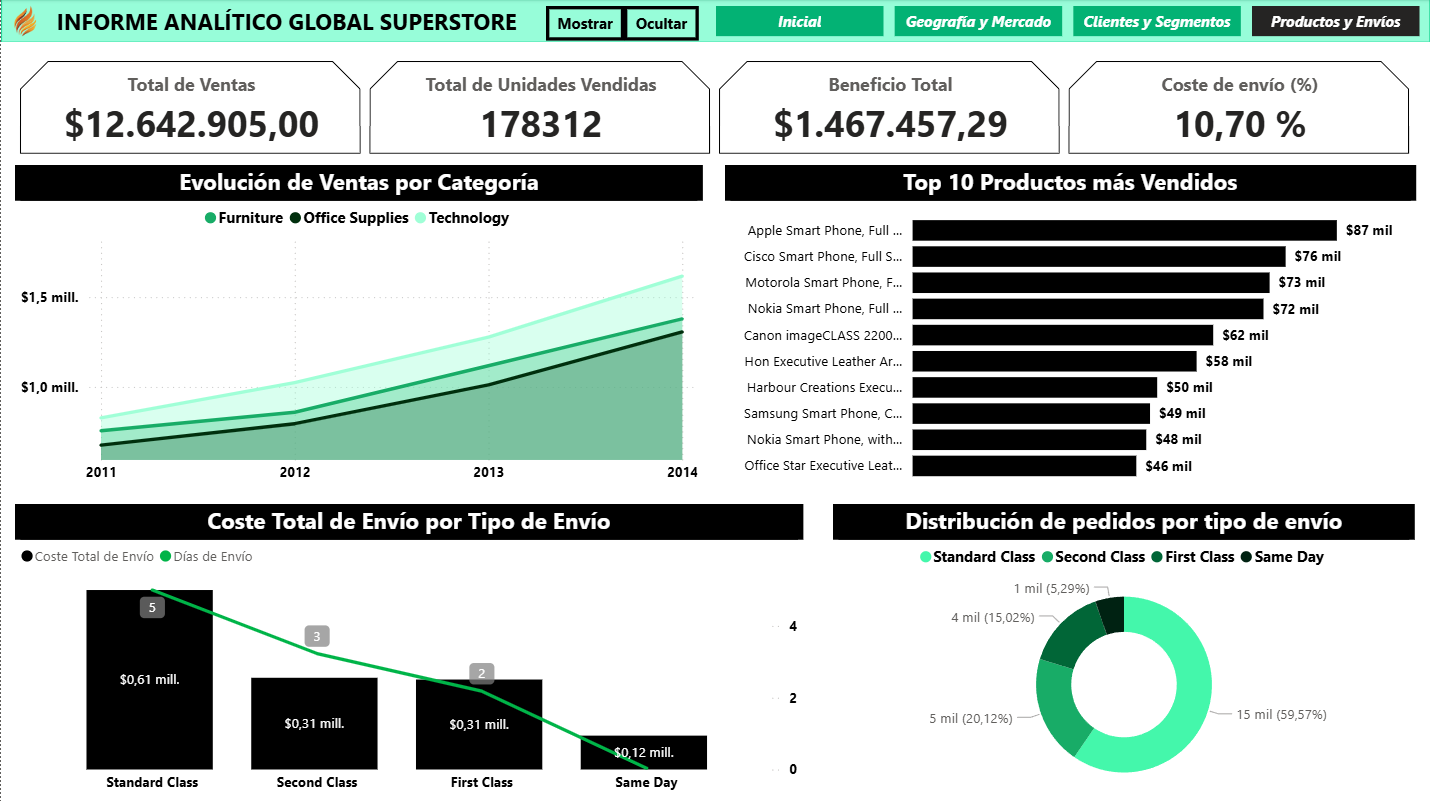

This screenshot's page, from the dashboard's own definition file:
{"tool":"powerbi","page":{"name":"Productos y Envíos","canvas":[1280,720],"ordinal":3},"visuals":[{"type":"group","id":"g1","title":"Grupo 1","box":[0,0,1280,40.2],"z":0},{"type":"shape","box":[0,0,1280,39.2],"z":0,"group":"g1"},{"type":"image","box":[0,0,42.3,40.2],"z":1000,"group":"g1"},{"type":"actionButton","title":"Mostrar","box":[488,6,70,31],"z":1000,"group":"g2"},{"type":"actionButton","box":[0,39.2,100,40.2],"z":1000},{"type":"actionButton","title":"Ocultar","box":[558,6,67,31],"z":2000,"group":"g2"},{"type":"pageNavigator","box":[640,6.2,632.8,27.8],"z":2000,"group":"g1"},{"type":"cardVisual","fields":{"Data":["Metricas.KPI_Total_Ventas","Metricas.KPI_Total_Unidades","Metricas.KPI_Total_Profit","Metricas.KPI_Shipping_%"]},"box":[0,38.8,1280,117.6],"z":2000},{"type":"barChart","title":"Top 10 Productos más Vendidos","fields":{"Category":["Dim_Product.Product_Name"],"Y":["Metricas.KPI_Total_Ventas"]},"box":[648.2,148.2,618.5,293.4],"z":3000},{"type":"lineClusteredColumnComboChart","title":"Coste Total de Envío por Tipo de Envío","fields":{"Category":["Dim_Ship_Mode.Ship_Mode"],"Y":["Metricas.KPI_Total_Shipping"],"Y2":["Metricas.KPI_Delivery_Days"]},"box":[12.5,452.2,705.7,267.8],"z":4000},{"type":"areaChart","title":"Evolución de Ventas por Categoría","fields":{"Y":["Metricas.KPI_Total_Ventas"],"Category":["Dim_Date.Jerarquía de fecha.Año"],"Series":["Dim_Product.Category"]},"box":[12.3,148.2,616.5,293.4],"z":5000},{"type":"donutChart","title":"Distribución de pedidos por tipo de envío","fields":{"Category":["Dim_Ship_Mode.Ship_Mode"],"Y":["Metricas.KPI_Total_Pedidos"]},"box":[745.1,452.2,521.2,267.8],"z":6000},{"type":"group","id":"g2","title":"Filtros Activar","box":[488,6,304,337],"z":7000}]}

Visuals, with their boxes in screenshot pixels (x1, y1, x2, y2), scaled from the page's 1280x720 canvas onto the 1430x801 screenshot:
"Grupo 1" group: x1=0 y1=0 x2=1429 y2=45
shape: x1=0 y1=0 x2=1429 y2=44
image: x1=0 y1=0 x2=47 y2=45
"Mostrar" actionButton: x1=545 y1=7 x2=623 y2=41
actionButton: x1=0 y1=44 x2=112 y2=88
"Ocultar" actionButton: x1=623 y1=7 x2=698 y2=41
pageNavigator: x1=715 y1=7 x2=1422 y2=38
cardVisual - Metricas.KPI_Total_Ventas x Metricas.KPI_Total_Unidades: x1=0 y1=43 x2=1429 y2=174
"Top 10 Productos más Vendidos" barChart: x1=724 y1=165 x2=1415 y2=491
"Coste Total de Envío por Tipo de Envío" lineClusteredColumnComboChart: x1=14 y1=503 x2=802 y2=800
"Evolución de Ventas por Categoría" areaChart: x1=14 y1=165 x2=702 y2=491
"Distribución de pedidos por tipo de envío" donutChart: x1=832 y1=503 x2=1415 y2=800
"Filtros Activar" group: x1=545 y1=7 x2=885 y2=382
